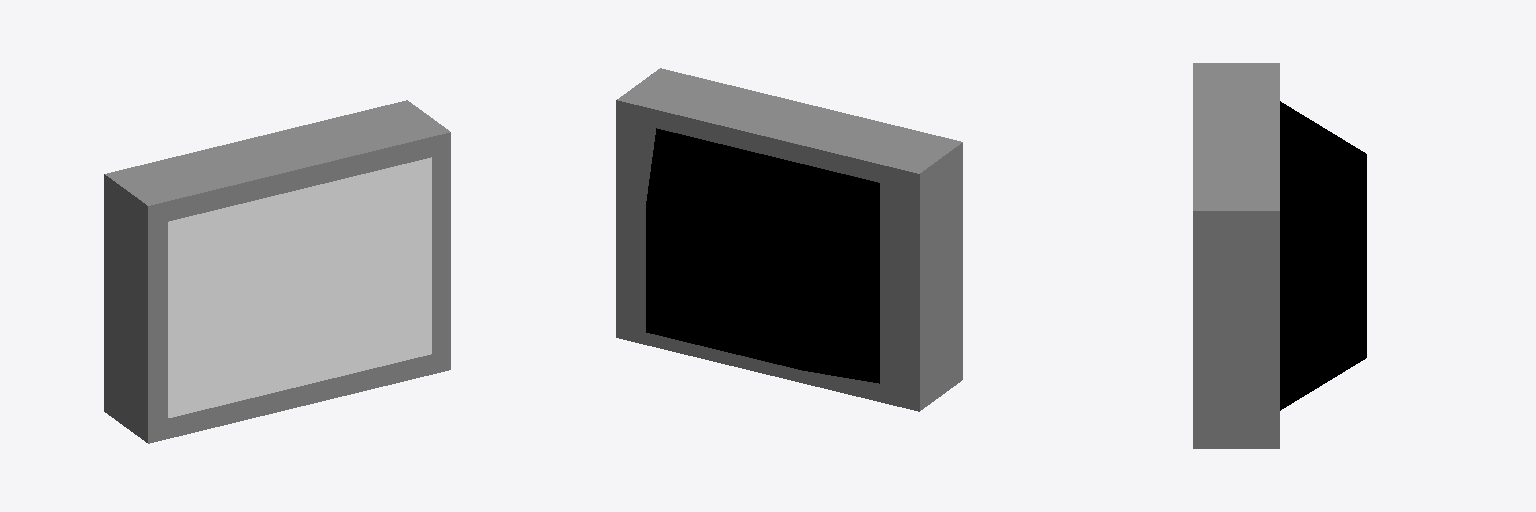
3 views of the same model, side by side, from view 1: azimuth 30°, elevation 25°; view 2: azimuth 150°, elevation 25°; view 3: azimuth 270°, elevation 25° (orthographic).
Parts seen in each view (by area): view 1: cube1; view 2: cube1; view 3: cube1.
Boxes of the visible parts, box(x1,y1,x2,y2) form: cube1: box(104, 100, 450, 443); cube1: box(616, 68, 962, 411); cube1: box(1193, 63, 1366, 448).
Size of the model in its own units: 2 by 1.5 by 1.